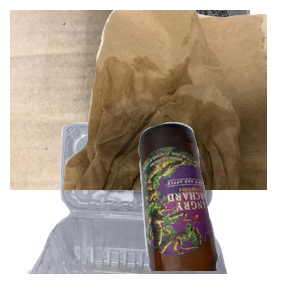cardboard: (10, 10, 250, 190)
glass: (136, 120, 300, 300)
plastic: (25, 120, 245, 300)
trash: (60, 10, 300, 190)
